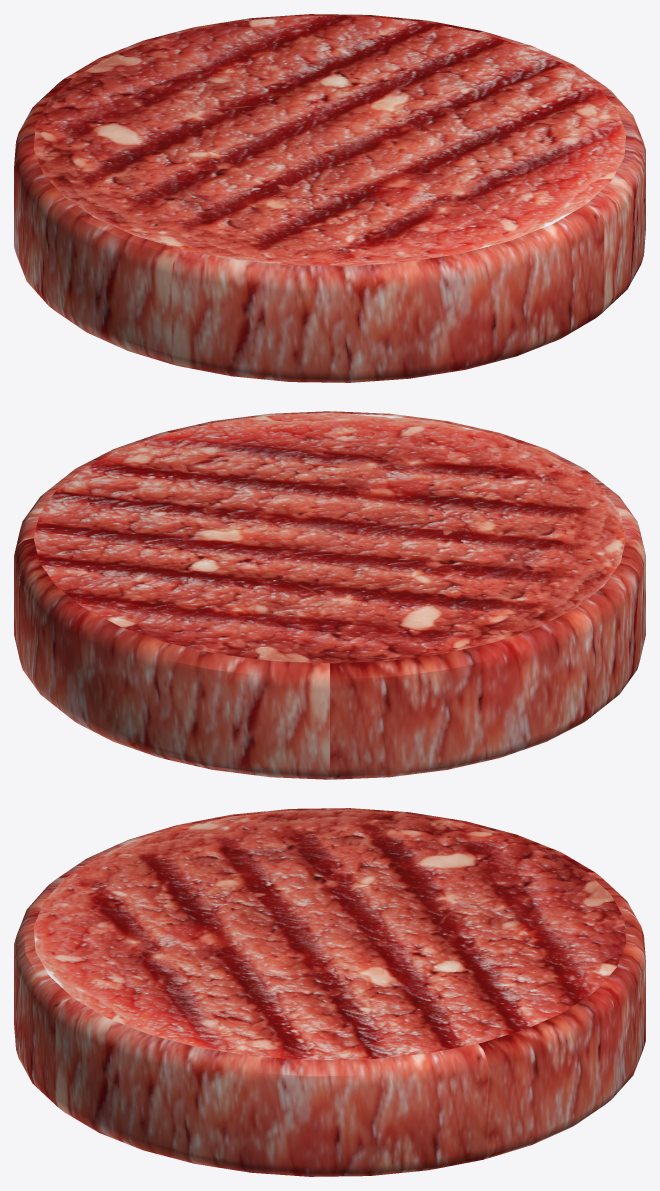
File: patty rauw We are cooked.fbx
The picture shows the model from 3 angles, top to bottom: view 1: azimuth 30°, elevation 25°; view 2: azimuth 150°, elevation 25°; view 3: azimuth 270°, elevation 25°; orthographic projection.
Parts seen in each view (by area): view 1: burger.003; view 2: burger.003; view 3: burger.003.
Boxes of the visible parts, x1=… form: burger.003: x1=14, y1=14, x2=645, y2=382; burger.003: x1=14, y1=411, x2=645, y2=779; burger.003: x1=14, y1=808, x2=645, y2=1176.
Bounding box in the file's own units: 9.25 × 1.85 × 9.25.
